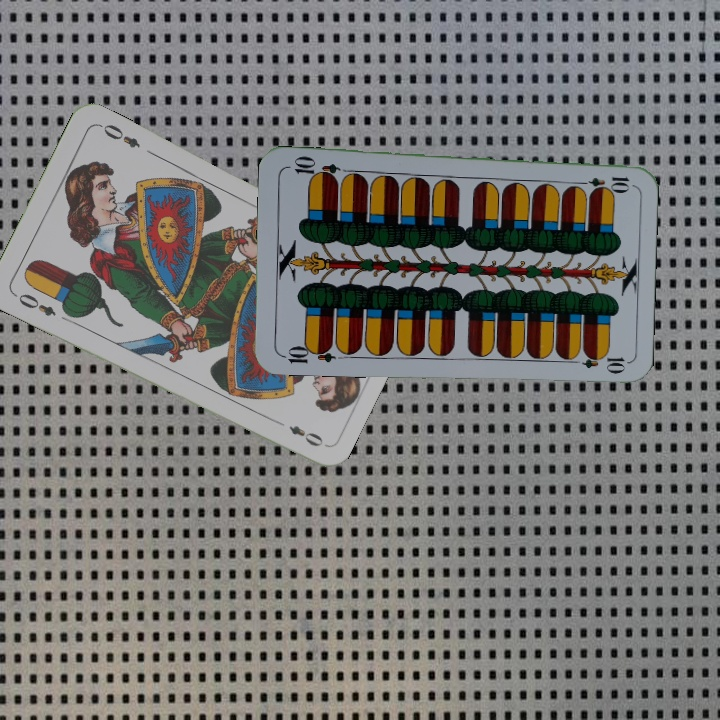E10: (278, 340, 337, 366), (573, 172, 632, 191)
EO: (9, 289, 59, 319)
